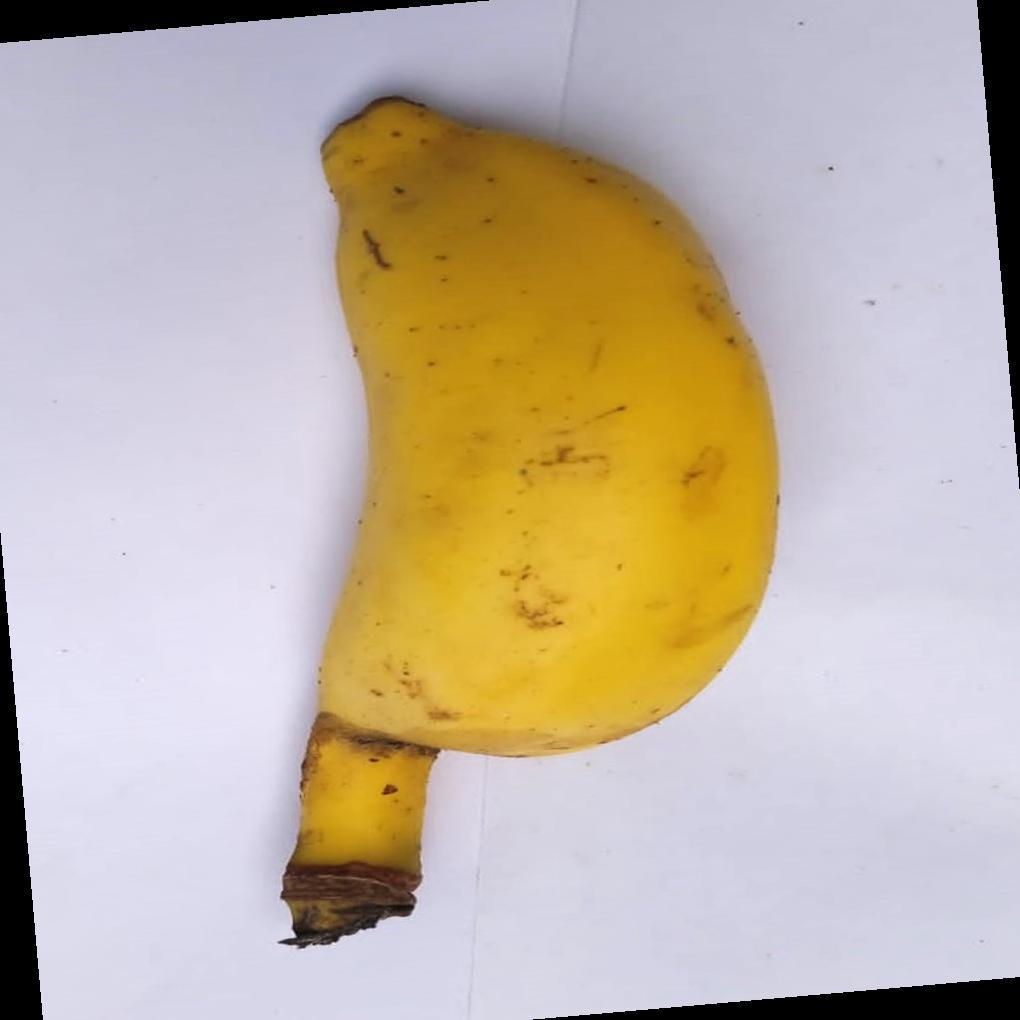Banana Ripe: (253, 78, 811, 1020)
